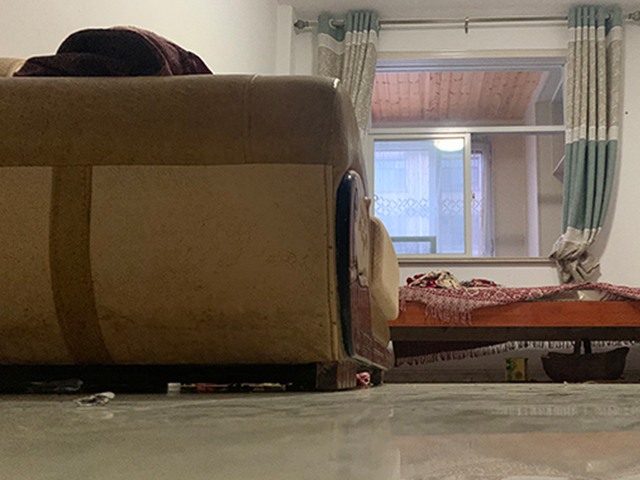bed: (395, 270, 640, 366)
curtain: (550, 1, 620, 282)
sofa: (1, 26, 402, 390)
